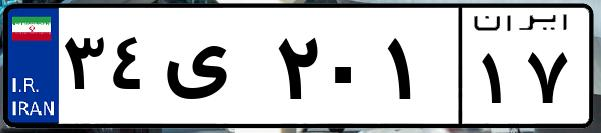0: (330, 28, 385, 110)
1: (385, 28, 445, 110), (475, 38, 525, 113)
2: (270, 28, 330, 110)
3: (57, 26, 110, 100)
4: (110, 28, 158, 98)
7: (525, 38, 570, 115)
ی: (158, 20, 270, 120)
